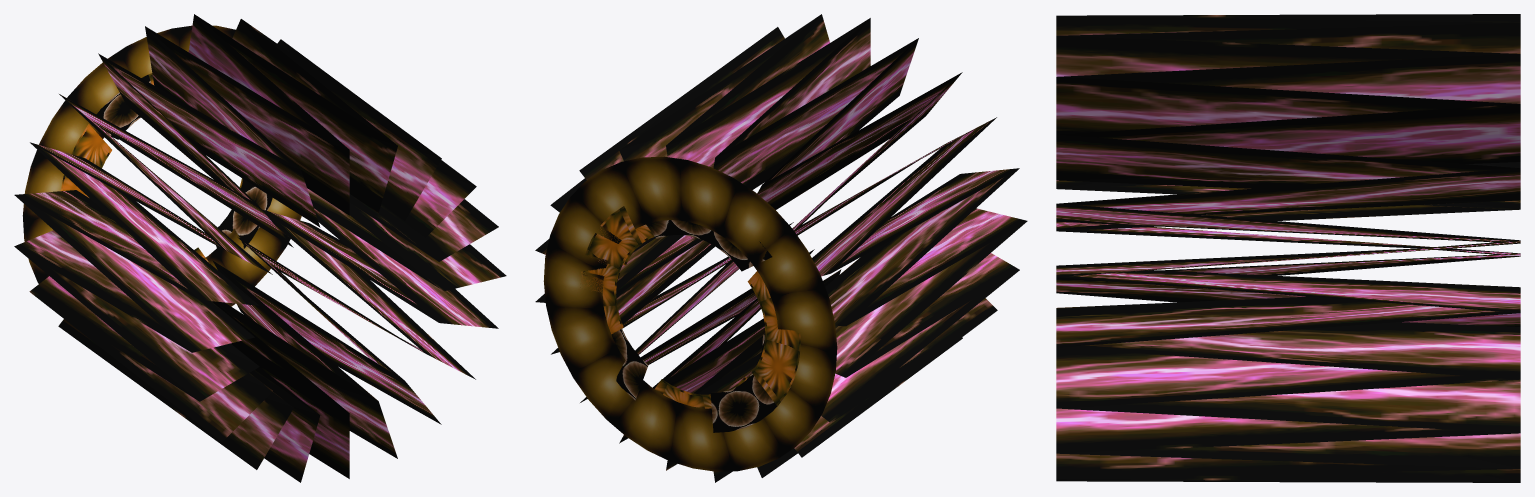
File: tx_knight_chaofeng_fire.obj
3 renders of one model, left to right at view 1: azimuth 30°, elevation 25°; view 2: azimuth 150°, elevation 25°; view 3: azimuth 270°, elevation 25°, orthographic. The views are drawn at different scales.
Visible parts, largest first — view 1: Cylinder01, Cylinder02, Cylinder05, Cylinder04; view 2: Cylinder01, Cylinder02, Cylinder05, Cylinder03, Cylinder04; view 3: Cylinder01.
Boxes of the visible parts, bbox=[...] form: Cylinder01: bbox=[14, 14, 506, 482]; Cylinder02: bbox=[22, 25, 301, 306]; Cylinder05: bbox=[96, 74, 272, 248]; Cylinder04: bbox=[61, 73, 154, 197]; Cylinder01: bbox=[535, 14, 1027, 482]; Cylinder02: bbox=[543, 156, 837, 471]; Cylinder05: bbox=[611, 220, 791, 432]; Cylinder03: bbox=[580, 206, 747, 408]; Cylinder04: bbox=[623, 224, 800, 406]; Cylinder01: bbox=[1056, 14, 1520, 482].
Bounding box in the file's own units: 7.51 × 7.51 × 7.44.
4 materials, 4 textured.
